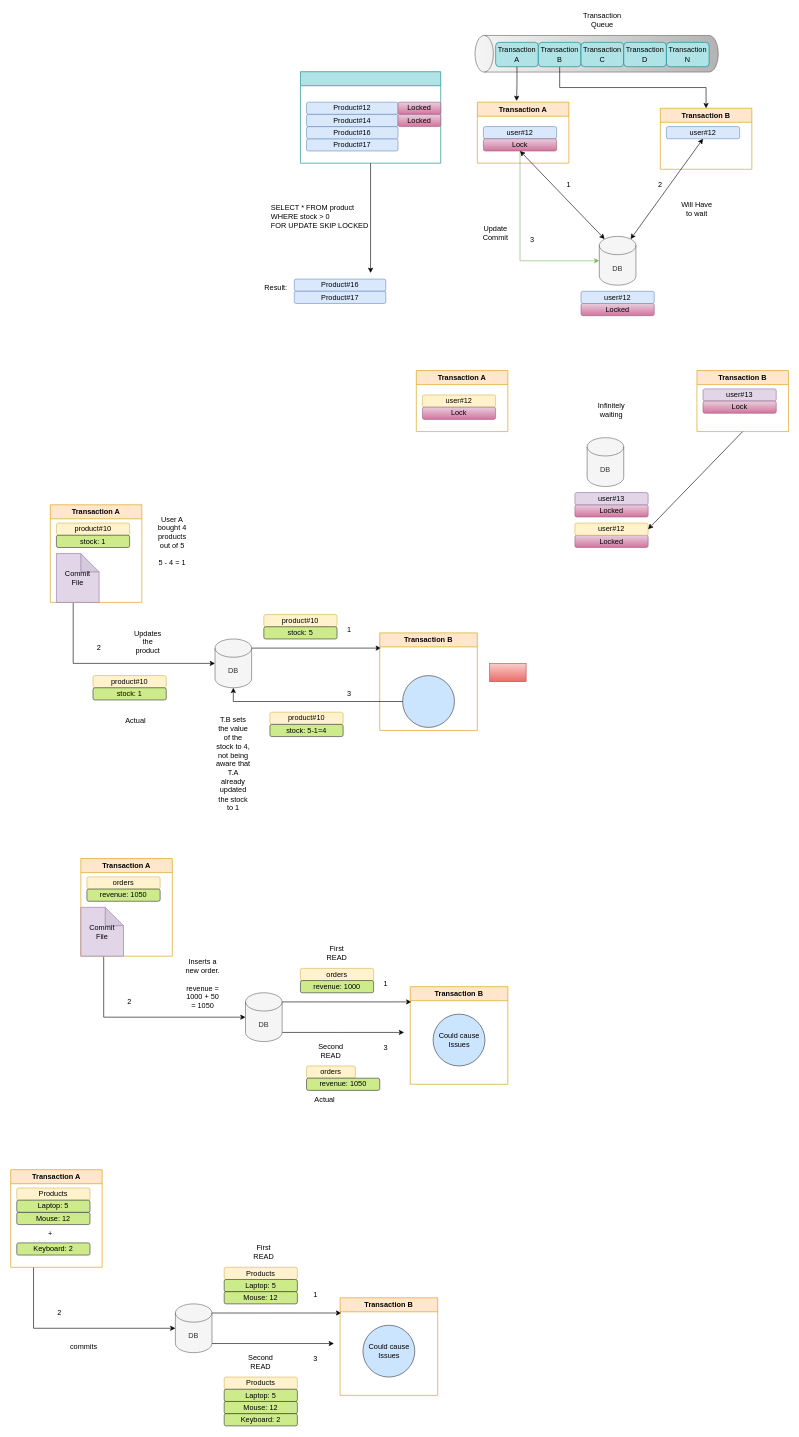
Some shapes in this 799 by 1437 pixel diagram are drawn without their labels. The shapes that lost their labels are listed below. From the top down, each one's box as (x1, y1, x2, y2) in pixels, then its label:
(300, 71, 441, 163): Product table
(489, 663, 526, 682): T.B is not Aware!
(402, 675, 454, 727): Validating And everything is OK
